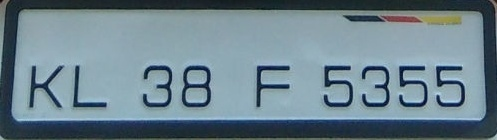character: (27, 61, 66, 109), (70, 63, 109, 109), (253, 61, 292, 107), (141, 62, 173, 108), (180, 63, 211, 110), (321, 62, 353, 107), (396, 63, 428, 108), (435, 63, 466, 109), (360, 62, 390, 109)
